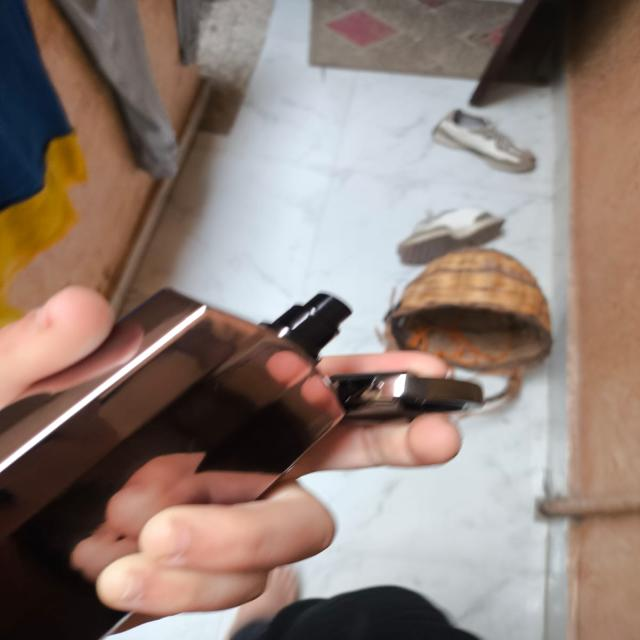Afnan: (1, 285, 354, 638), (326, 369, 485, 422)
